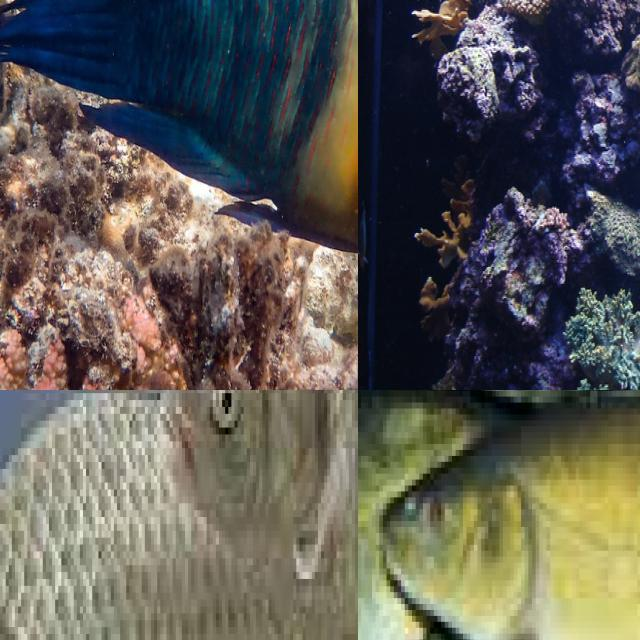fish: (0, 0, 358, 390), (358, 390, 640, 640), (145, 390, 358, 640)
